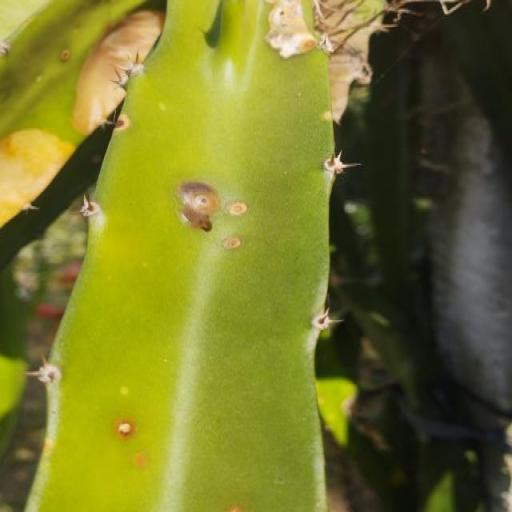stemcanker: (111, 375, 159, 482), (29, 46, 78, 90), (222, 192, 247, 264)
